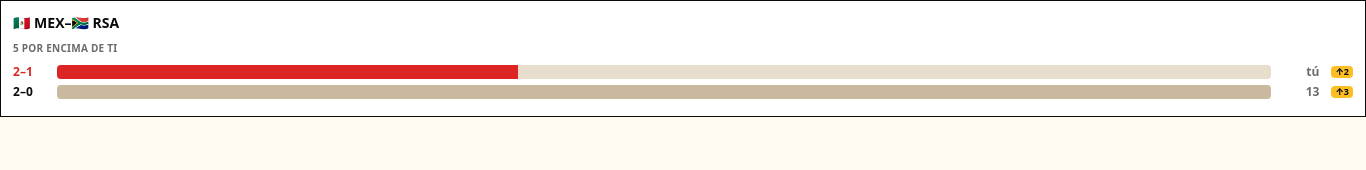
ConsensusCard 403/null picks caching › does not crash, shows panel header with no pick rows, and does not refetch on re-open
Open panel for the first time
Click the button "2–1": (31, 72) [13, 64, 49, 80]
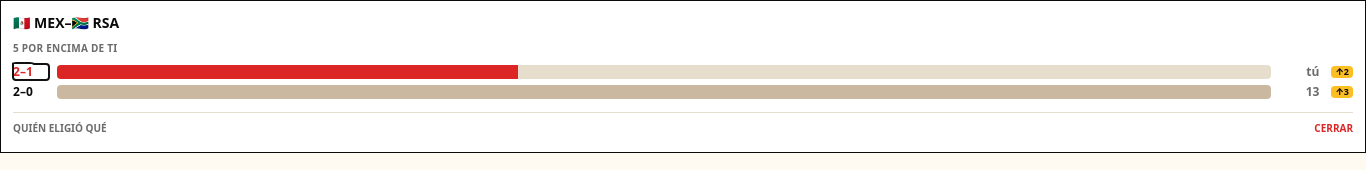
Expected: the text "Quién eligió qué" is shown, [13, 121, 107, 136]
Close the panel
Click the button "Cerrar": (1334, 128) [1314, 121, 1353, 136]
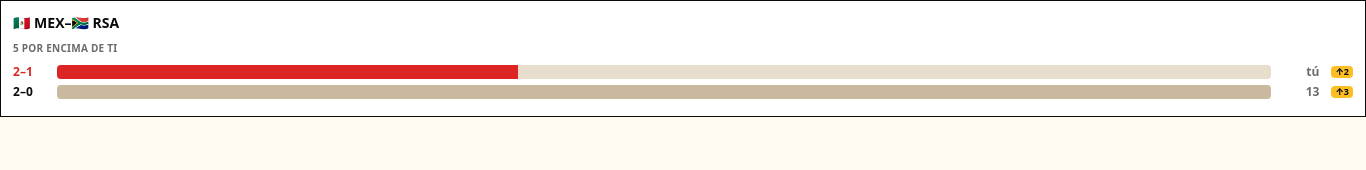
Re-open same panel
Click the button "2–1": (31, 72) [13, 64, 49, 80]
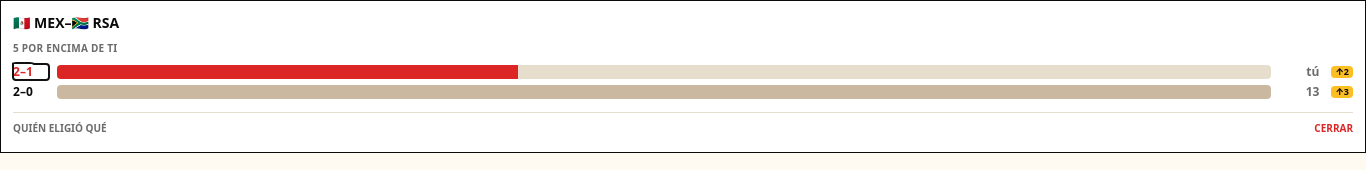
Expected: the text "Quién eligió qué" is shown, [13, 121, 107, 136]
